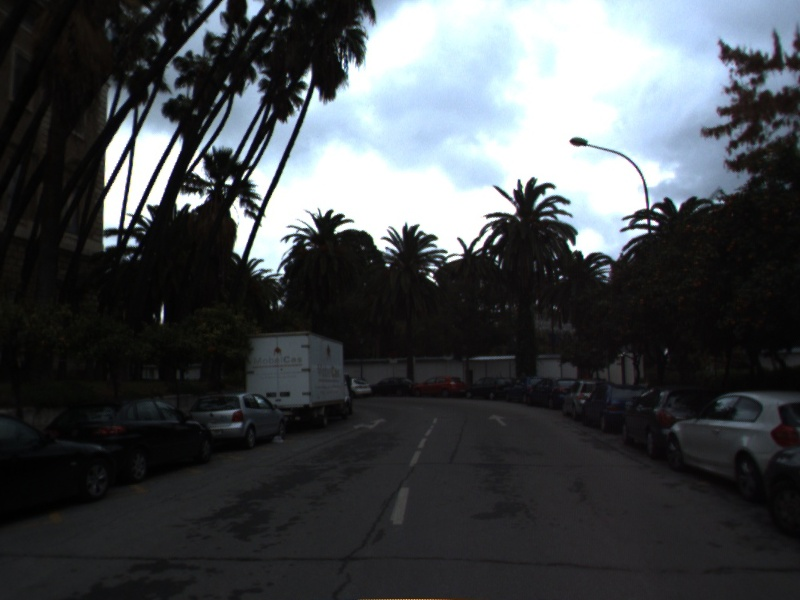STRAIGHT: (486, 412, 509, 428)
STRAIGHT_LEFT: (351, 416, 389, 431)
